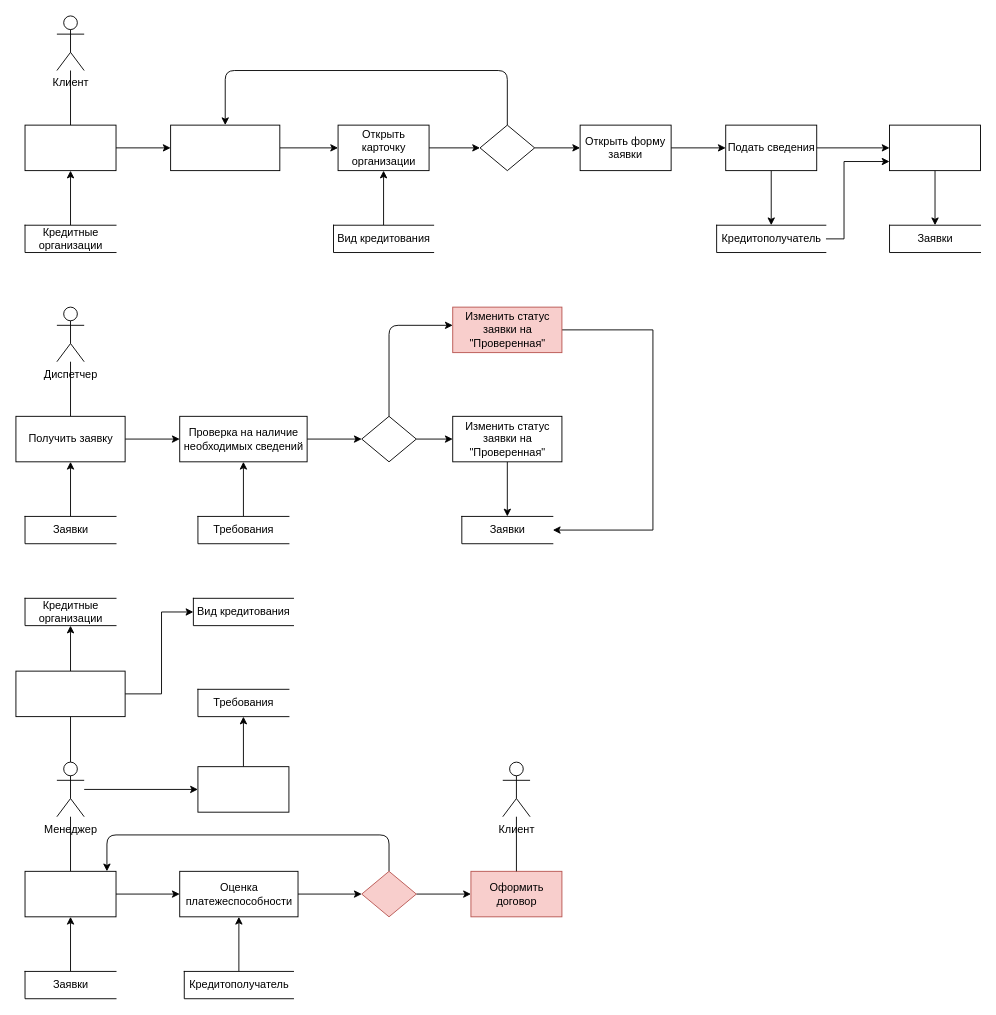
The diagram is 996 pixels wide and 1015 high, and some of its shapes have lost their labels. Each missing label, with the centre of its shape:
"Выполнить фильтрацию организаций" belongs at point 225,147.
"Обновить данные о кредитной организации" belongs at point 70,693.
"Подать заявку" belongs at point 935,147.
"Получить проверенную заявку" belongs at point 70,893.
"Получить список кредитных организаций" belongs at point 70,147.
"Требования к заявке на кредит" belongs at point 243,789.
